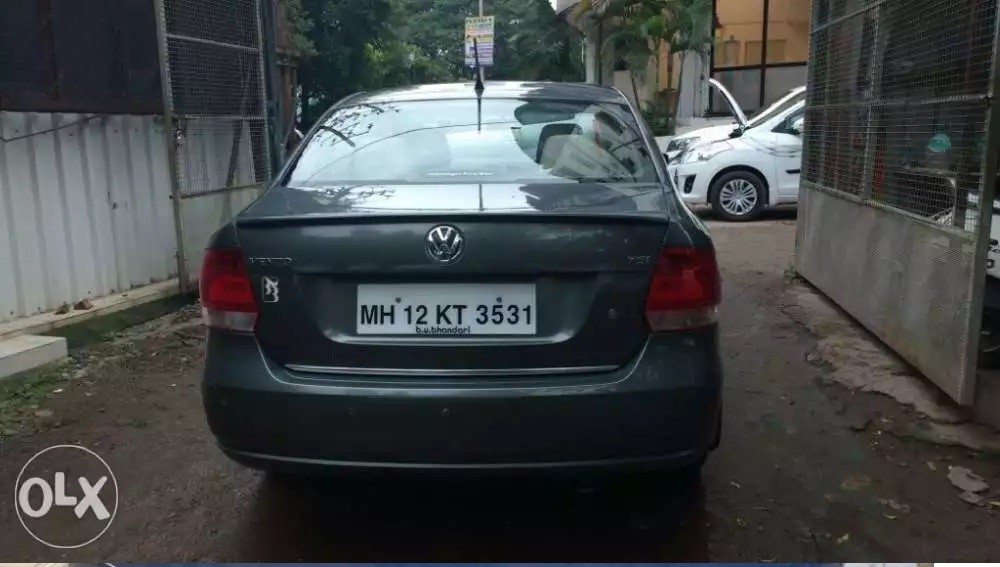licenseplate: (350, 280, 540, 340)
